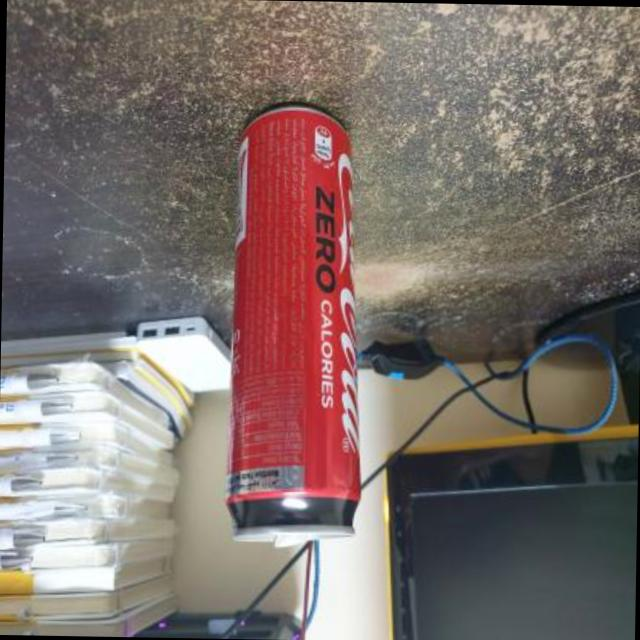metal: (229, 108, 359, 544)
